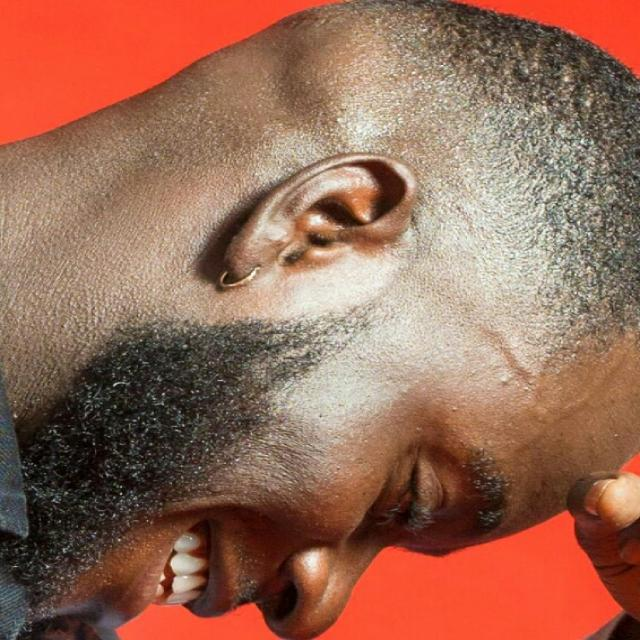front: (79, 350, 534, 632)
